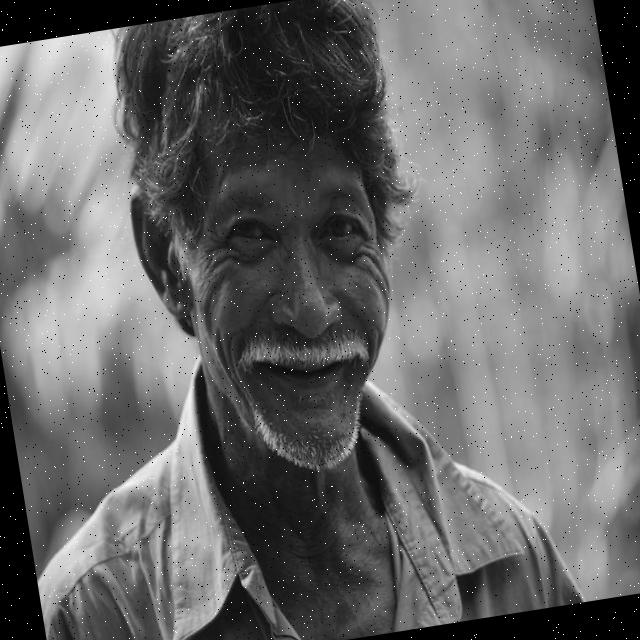Happiness: (165, 110, 424, 493)
